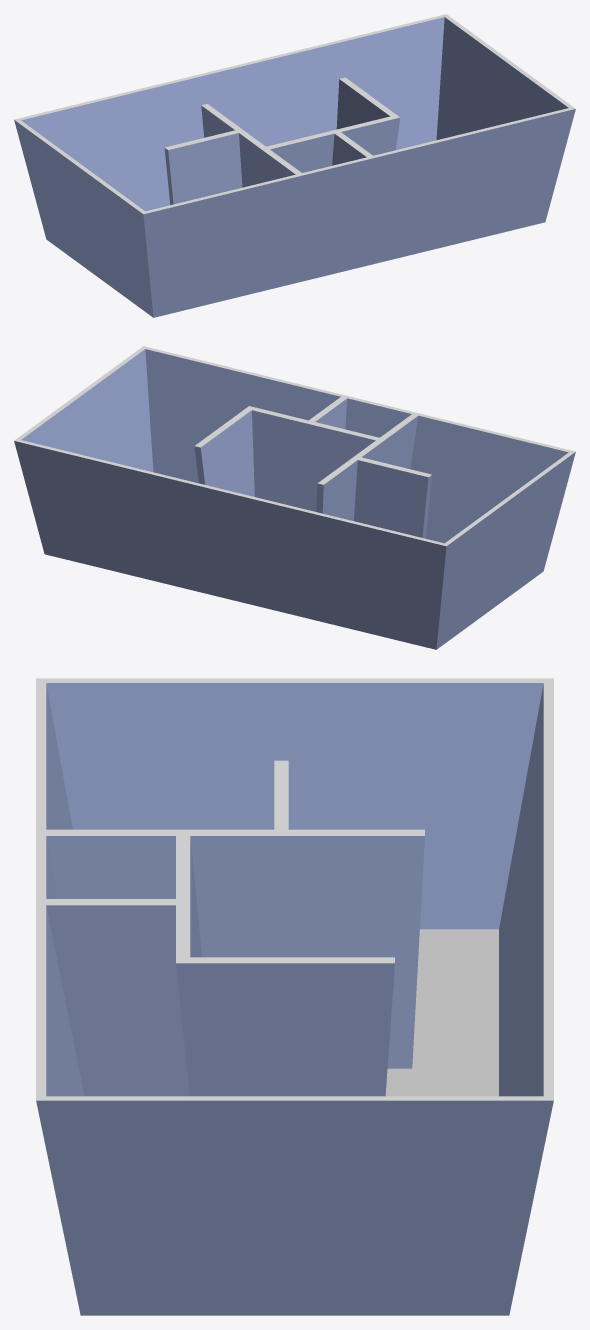
Rendered from Room1.fbx.
3 views of the same model, one above another, from view 1: azimuth 30°, elevation 25°; view 2: azimuth 150°, elevation 25°; view 3: azimuth 270°, elevation 25° (orthographic). The views are drawn at different scales.
Visible parts, largest first — view 1: Cube; view 2: Cube; view 3: Cube.
Part boxes in pixels (<box>): Cube: <box>14,14,575,317</box>; Cube: <box>14,346,575,649</box>; Cube: <box>36,678,553,1315</box>.
Size of the model in its own units: 1929 by 498 by 1000.
